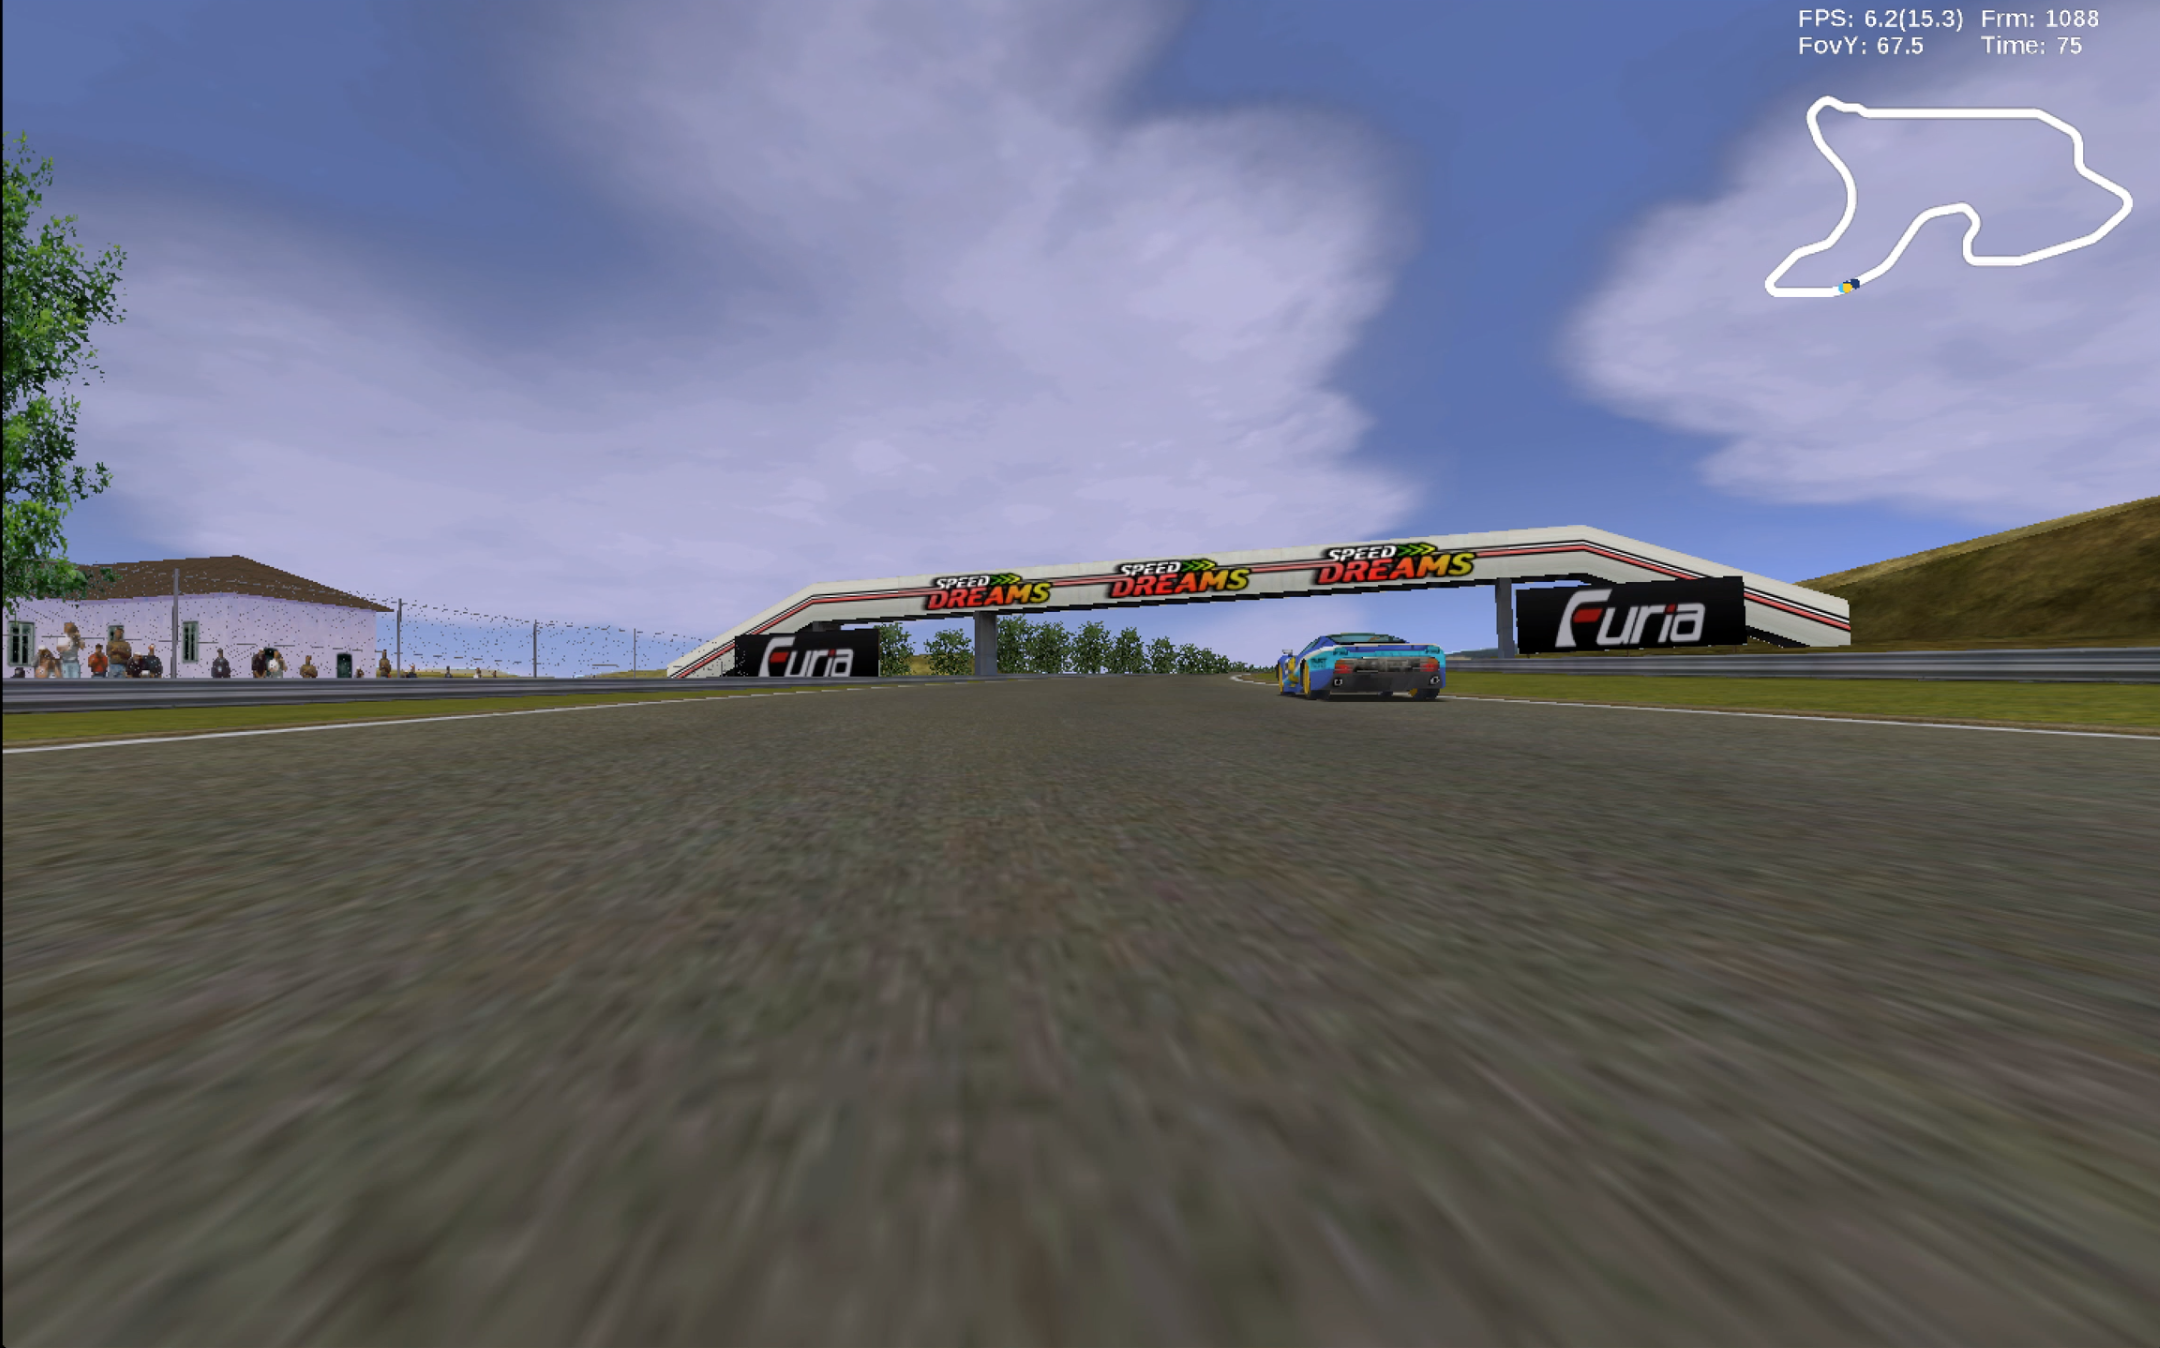Lynx220: (1276, 631, 1447, 704)
